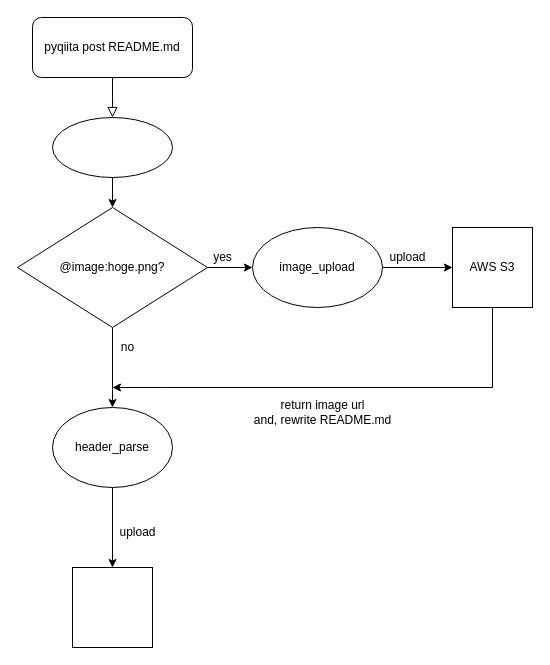
Some shapes in this 550 by 665 pixel diagram are drawn without their labels. The shapes that lost their labels are listed below. From the top down, each one's centre as x and y in pixels, then its label:
At point (112, 147): "iamge_parse".
At point (112, 607): "Qiita".
